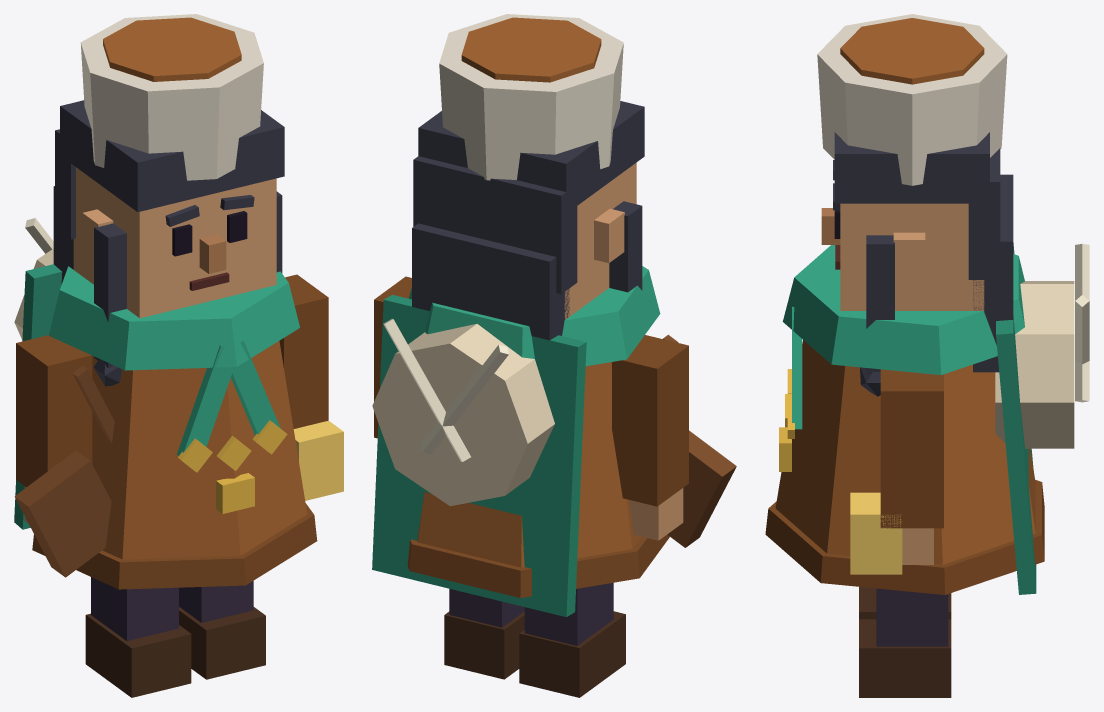
Rendered from ocakcan.obj.
3 renders of one model, left to right at view 1: azimuth 30°, elevation 25°; view 2: azimuth 150°, elevation 25°; view 3: azimuth 270°, elevation 25°, orthographic.
Parts seen in each view (by area): view 1: govde, kalpak, kafa, atki, kollar, sac, cizmeler, kopuz, etek, kalpak-tepesi, bacaklar, yaka (+11 smaller); view 2: yumusak-pelerin, davul, sac, kalpak, kollar, govde, uzun-sac, cizmeler, atki, kalpak-tepesi, etek, bacaklar (+6 smaller); view 3: govde, kalpak, atki, sac, kafa, kollar, davul, etek, kalpak-tepesi, cizmeler, yumusak-pelerin, bacaklar (+9 smaller).
Boxes of the visible parts, x1,y1,x2,y2 form: govde: (92,341,307,559); kalpak: (80,14,263,180); kafa: (73,167,276,318); atki: (49,266,299,370); kollar: (16,274,328,487); sac: (55,100,284,239); cizmeler: (85,607,265,697); kopuz: (14,366,114,577); etek: (32,503,317,589); kalpak-tepesi: (103,17,241,81); bacaklar: (91,577,253,640); yaka: (177,339,280,455); yumusak-pelerin: (372,294,586,617); davul: (372,324,554,506); sac: (413,101,644,294); kalpak: (439,14,623,180); kollar: (374,276,688,506); govde: (417,362,640,567); uzun-sac: (412,223,569,340); cizmeler: (444,611,625,697); atki: (409,266,660,366); kalpak-tepesi: (461,17,601,82); etek: (407,534,669,597); bacaklar: (449,582,613,645); govde: (775,340,1035,564); kalpak: (817,14,1007,185); atki: (782,245,1024,374); sac: (834,132,1000,279); kafa: (840,203,984,311); kollar: (880,369,943,528); davul: (995,281,1074,448); etek: (765,479,1044,594); kalpak-tepesi: (840,18,984,84); cizmeler: (859,587,951,697); yumusak-pelerin: (996,243,1036,594); bacaklar: (876,588,948,646).
Bounding box in the file's own units: 2.53 × 4.72 × 2.25.
